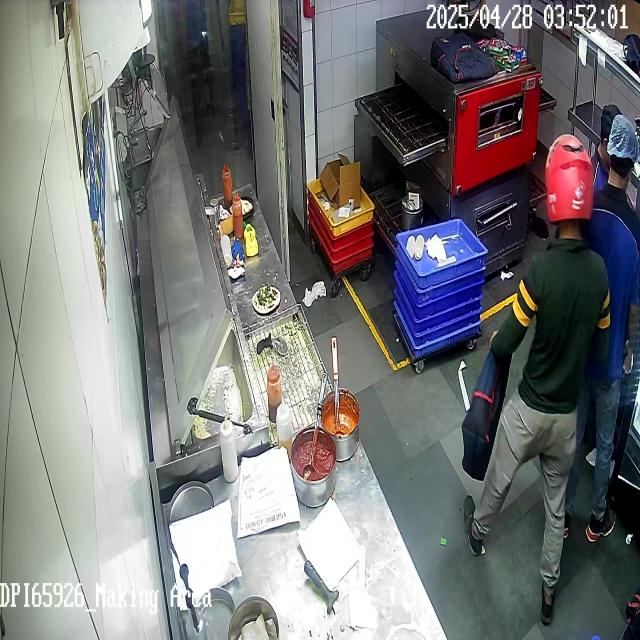helmet: (545, 132, 594, 223)
no_helmet: (607, 115, 639, 190)
